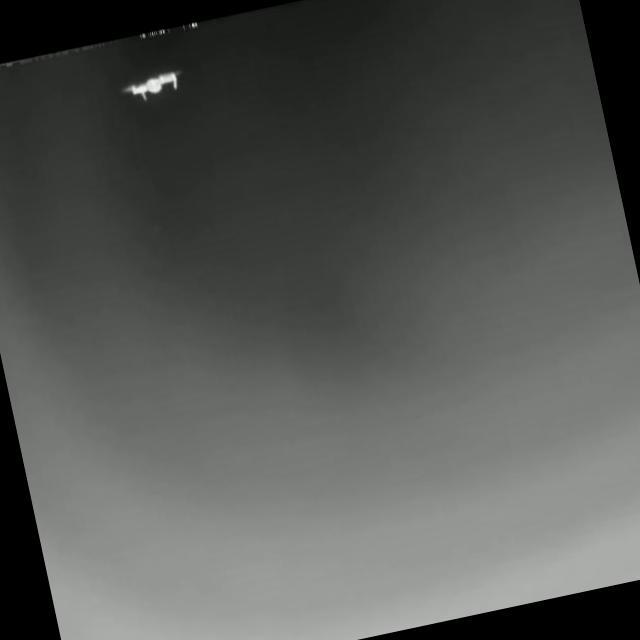DRONE: (120, 63, 187, 101)
